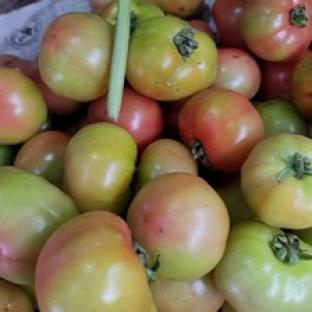Tomato: (35, 211, 155, 311), (127, 172, 229, 281), (0, 166, 77, 285), (214, 222, 311, 311), (126, 16, 217, 101), (179, 88, 264, 172), (38, 12, 114, 101), (63, 122, 137, 213), (241, 133, 311, 229), (87, 85, 164, 153), (0, 67, 47, 144), (13, 130, 71, 188), (133, 138, 197, 190), (150, 273, 224, 311), (30, 65, 83, 115), (212, 48, 261, 98), (212, 173, 254, 225), (255, 99, 309, 136), (292, 51, 311, 119), (0, 279, 33, 311), (187, 17, 217, 43), (0, 53, 33, 75), (0, 145, 15, 165)
